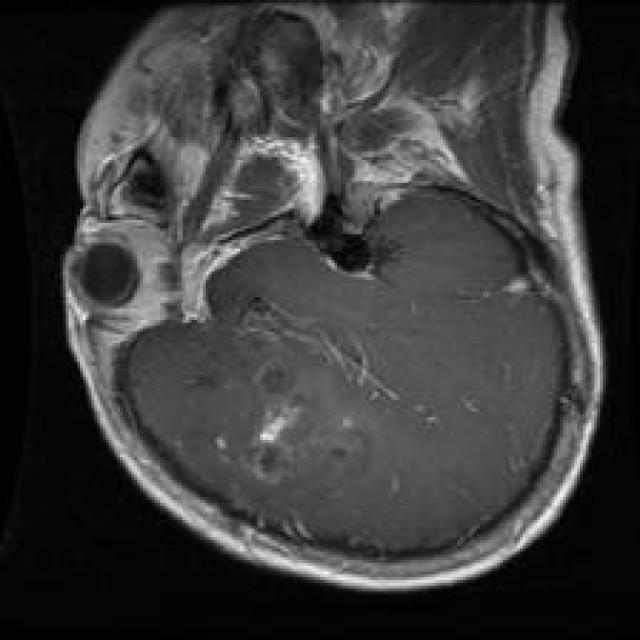glioma_tumor: (206, 345, 374, 498)
